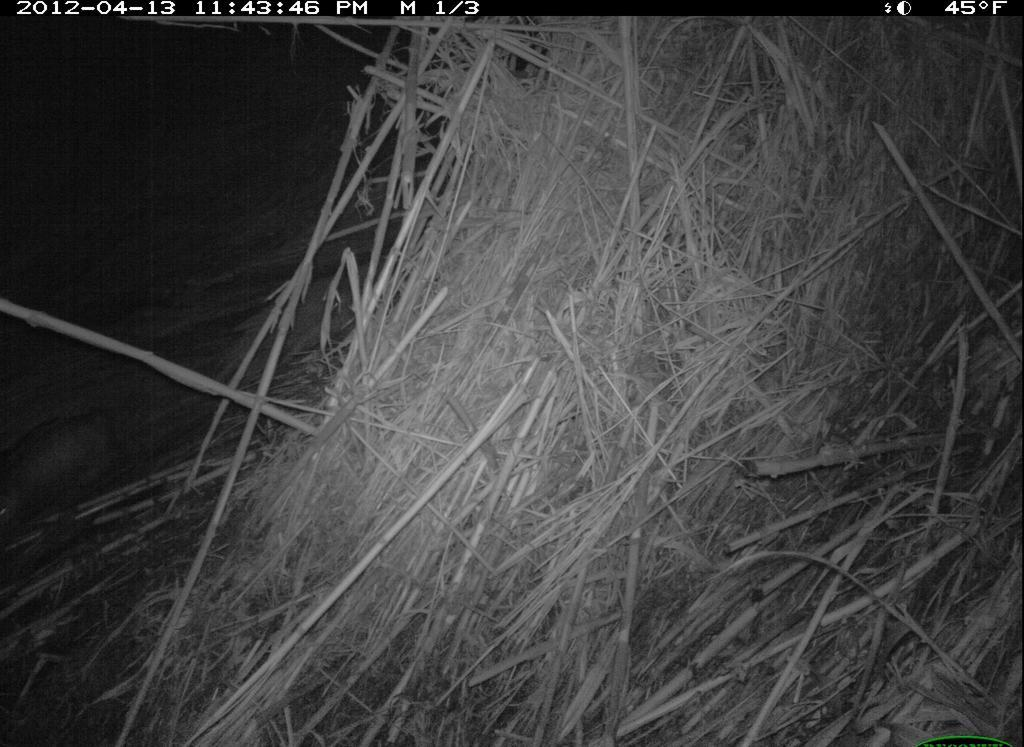opossum: (1, 388, 148, 521)
